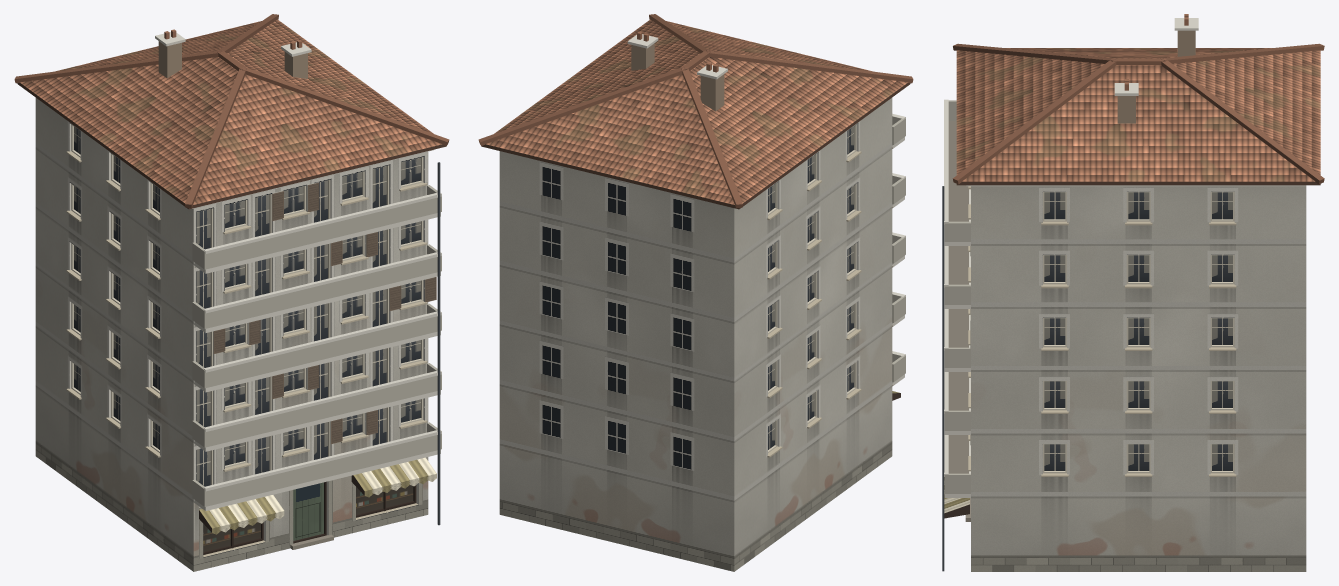
The model's file is hero_res_mid_c.glb.
3 renders of one model, left to right at view 1: azimuth 30°, elevation 25°; view 2: azimuth 150°, elevation 25°; view 3: azimuth 270°, elevation 25°, orthographic. The views are drawn at different scales.
Parts seen in each view (by area): view 1: bld_hero_res_mid_c; view 2: bld_hero_res_mid_c; view 3: bld_hero_res_mid_c.
Boxes of the visible parts, x1,y1,x2,y2 form: bld_hero_res_mid_c: [14, 14, 449, 571]; bld_hero_res_mid_c: [478, 14, 913, 571]; bld_hero_res_mid_c: [942, 14, 1324, 571].
Size of the model in its own units: 13.53 by 21.85 by 15.96.
1 material, 1 textured.
